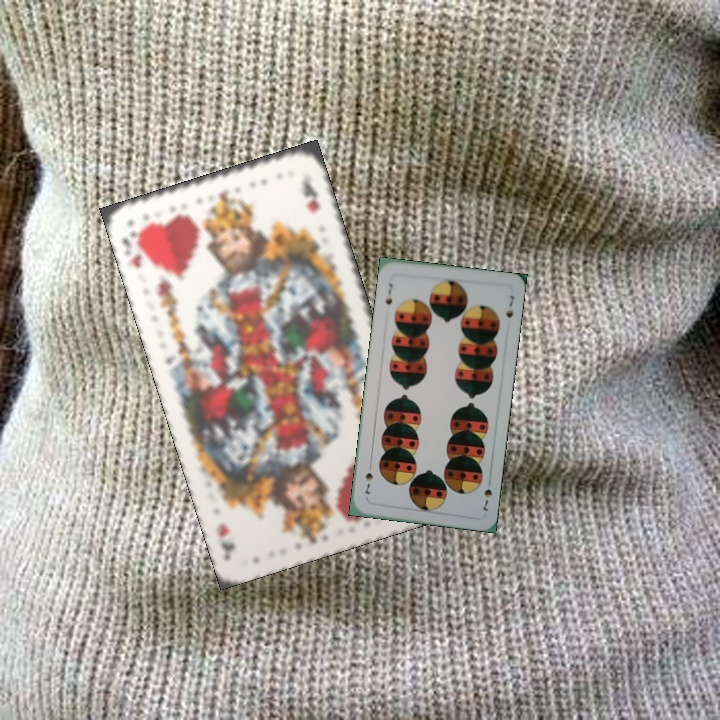HK: (117, 226, 152, 271)
S7: (479, 485, 495, 513), (381, 279, 395, 307)
